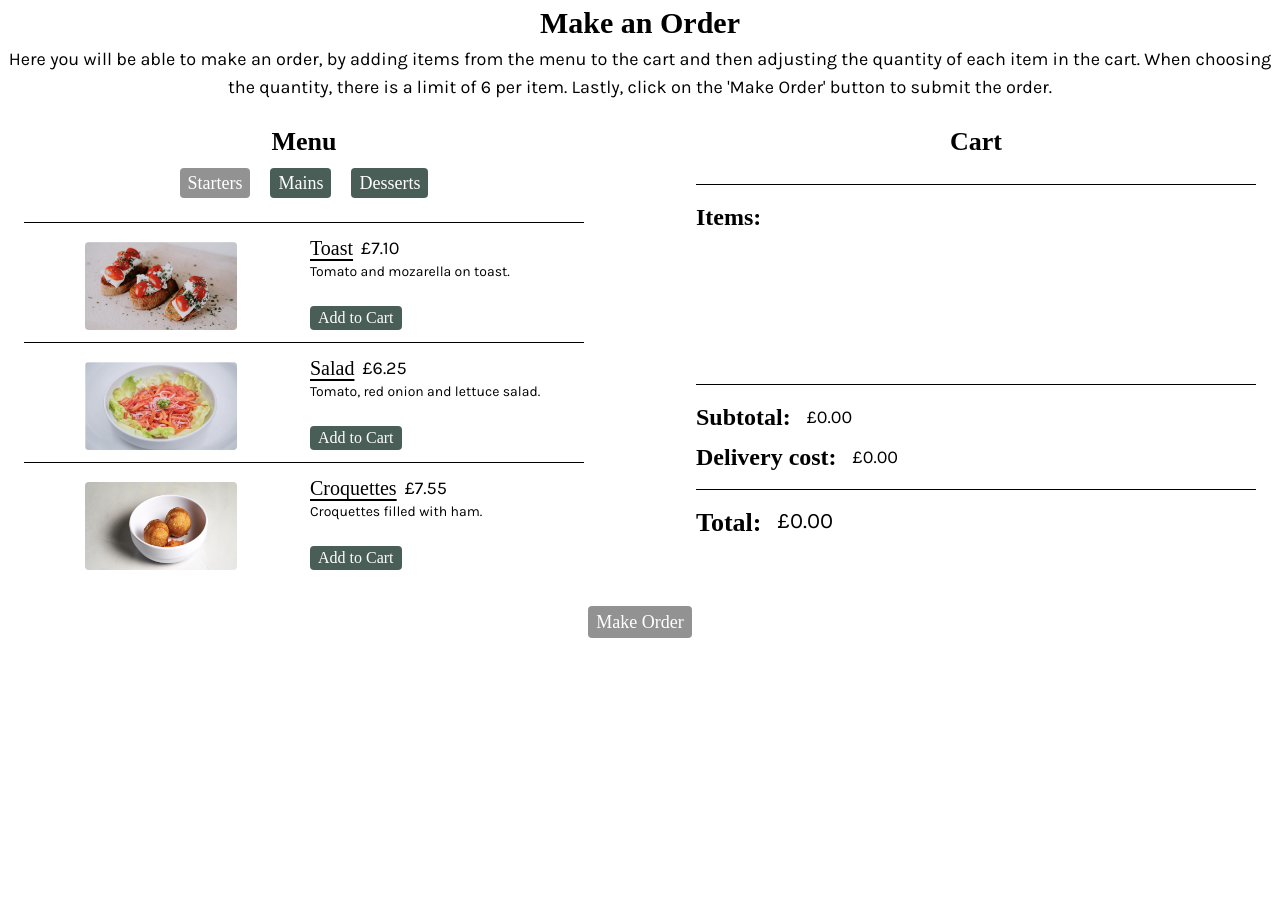
Test case: MakeAnOrder › correctly displays Cart, when the only item in the cart is removed.
Click the button "Add to Cart" below "Tomato and mozarella on toast." at (356, 318), box [310,306,402,330]
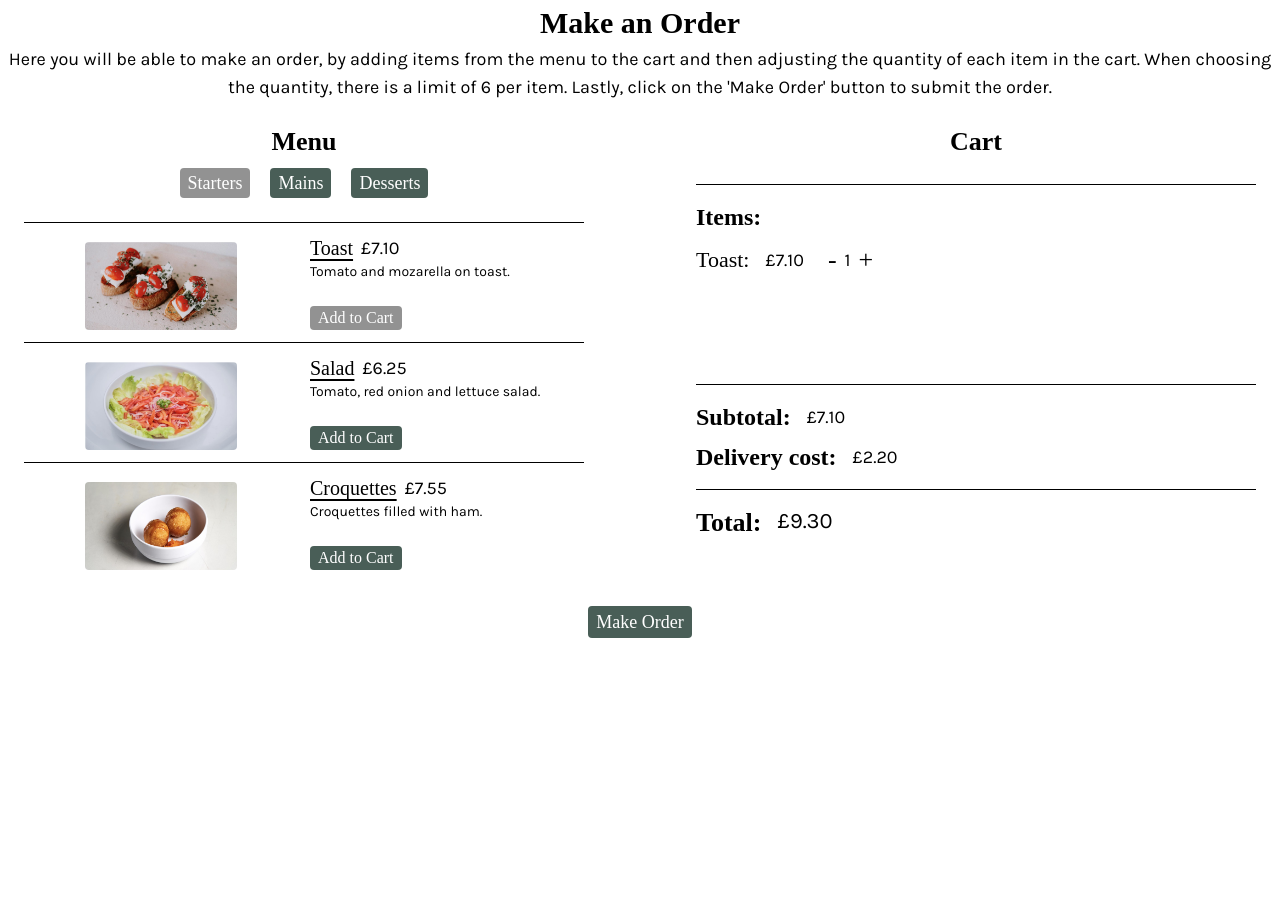
Expected: the button "Add to Cart" below "Tomato and mozarella on toast." is disabled, [310,306,402,330]
Click the button "-" at (832, 260), box [820,241,845,279]
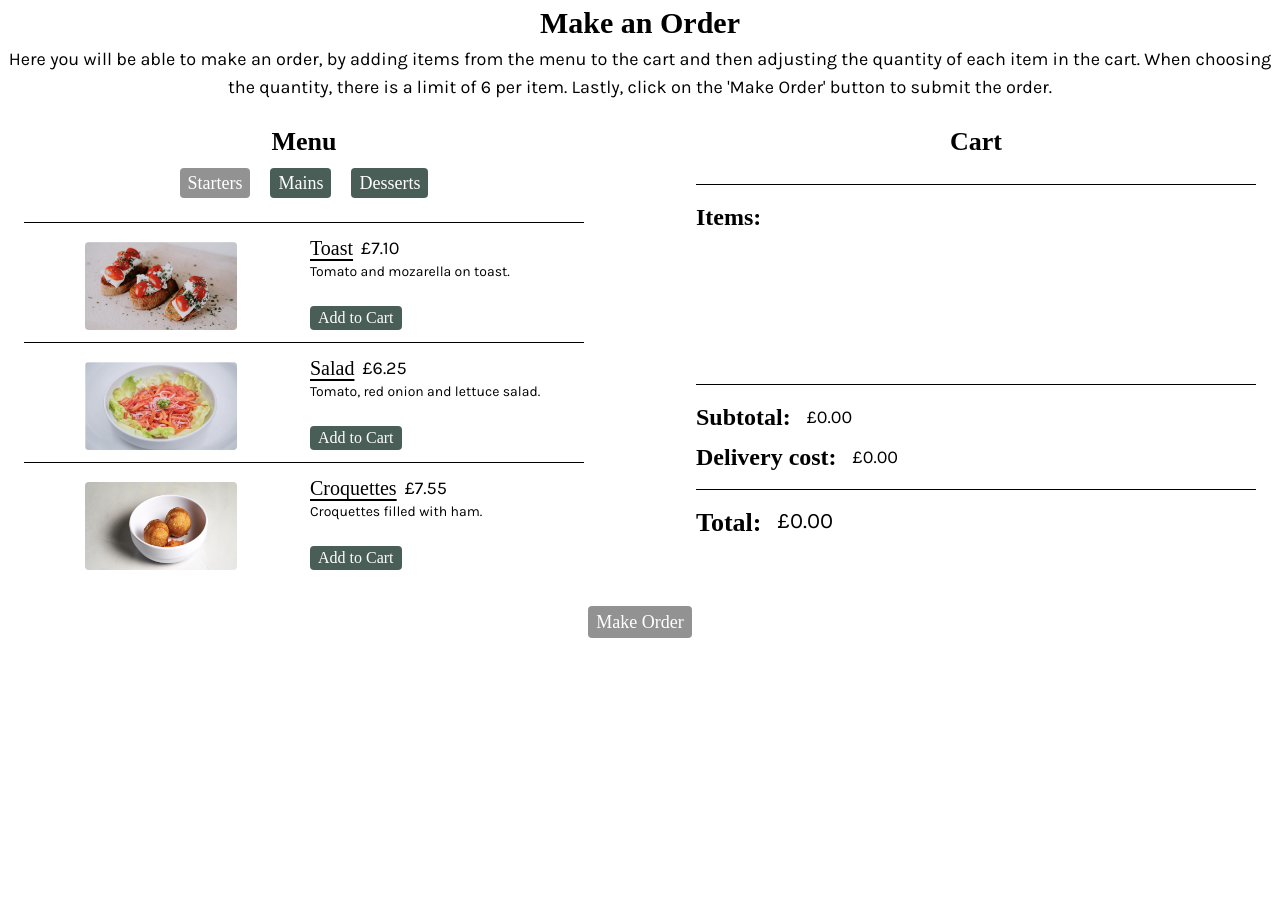
Expected: the button "Add to Cart" below "Tomato and mozarella on toast." is enabled, [310,306,402,330]
Expected: the text "£0.00" next to "Subtotal:" is shown, [807,406,852,428]
Expected: the text "£0.00" next to "Delivery cost:" is shown, [853,446,898,468]
